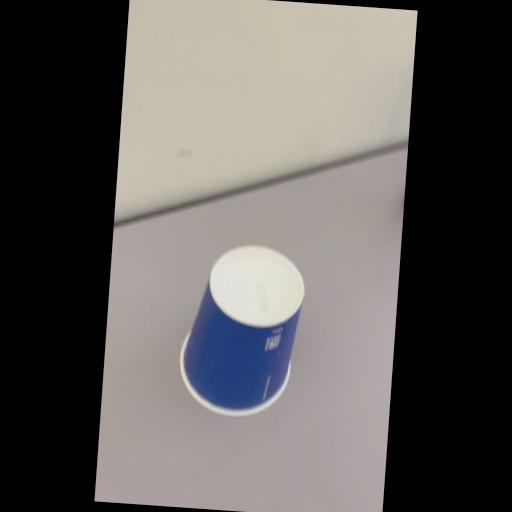lp_paper_cup: (174, 238, 310, 422)
